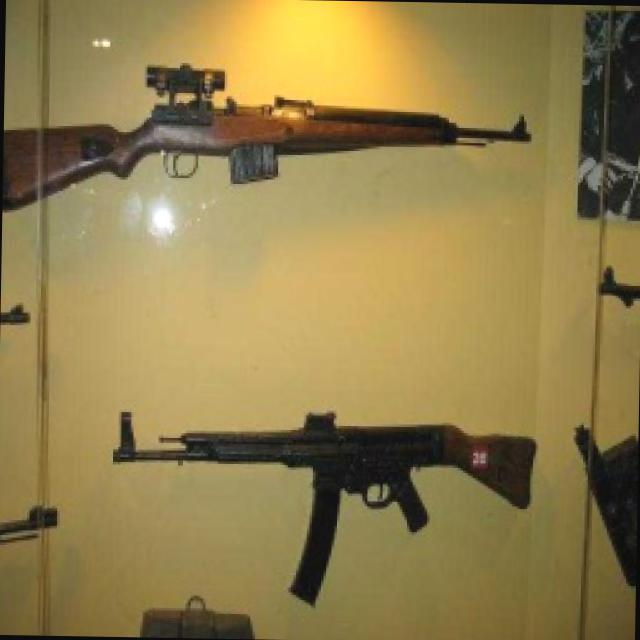long weapon: (71, 371, 554, 588), (1, 68, 546, 240)
